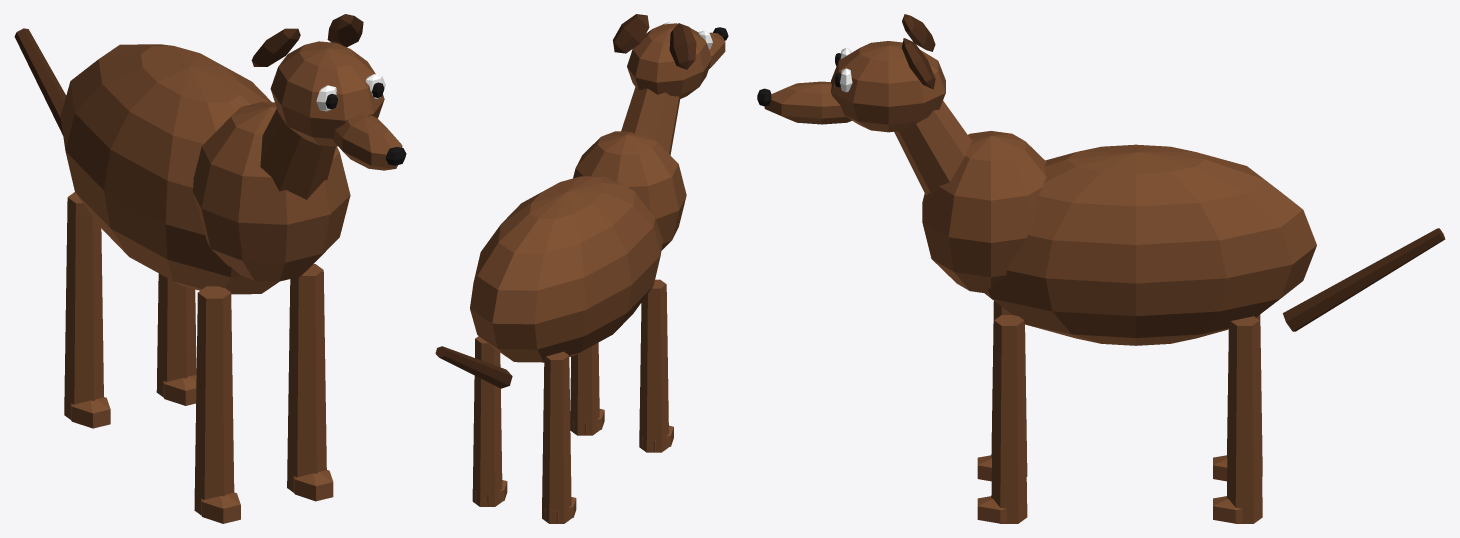
File: dog_greyhound.glb
3 views of the same model, side by side, from view 1: azimuth 30°, elevation 25°; view 2: azimuth 150°, elevation 25°; view 3: azimuth 270°, elevation 25° (orthographic). The views are drawn at different scales.
Visible parts, largest first — view 1: body_greyhound_dye, legs_greyhound_dye, head_greyhound_dye, ears_greyhound_dark, tail_greyhound_dark, head_dog_black, head_dog_eye; view 2: body_greyhound_dye, legs_greyhound_dye, head_greyhound_dye, ears_greyhound_dark, tail_greyhound_dark; view 3: body_greyhound_dye, legs_greyhound_dye, head_greyhound_dye, tail_greyhound_dark, ears_greyhound_dark.
Part boxes in pixels (x1,y1,x2,y2): body_greyhound_dye: (60, 44, 350, 294); legs_greyhound_dye: (64, 192, 333, 523); head_greyhound_dye: (260, 41, 402, 199); ears_greyhound_dark: (251, 14, 363, 66); tail_greyhound_dark: (14, 28, 66, 135); head_dog_black: (325, 82, 406, 165); head_dog_eye: (316, 74, 385, 111); body_greyhound_dye: (470, 131, 686, 362); legs_greyhound_dye: (472, 279, 673, 523); head_greyhound_dye: (621, 23, 725, 155); ears_greyhound_dark: (613, 14, 696, 69); tail_greyhound_dark: (435, 346, 512, 388); body_greyhound_dye: (922, 131, 1316, 345); legs_greyhound_dye: (977, 301, 1262, 523); head_greyhound_dye: (764, 41, 972, 195); tail_greyhound_dark: (1283, 228, 1445, 331); ears_greyhound_dark: (902, 14, 935, 89).
Size of the model in its own units: 0.3 by 0.8662 by 1.14.
